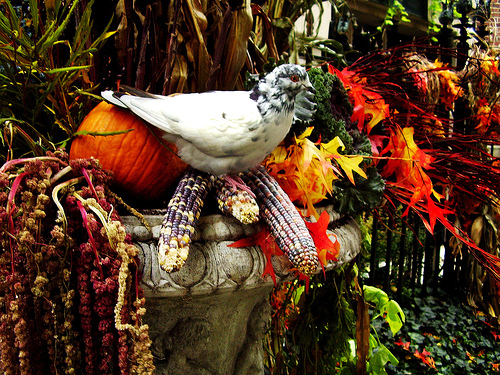corn: (247, 168, 318, 276), (156, 167, 212, 274), (206, 170, 259, 225)
